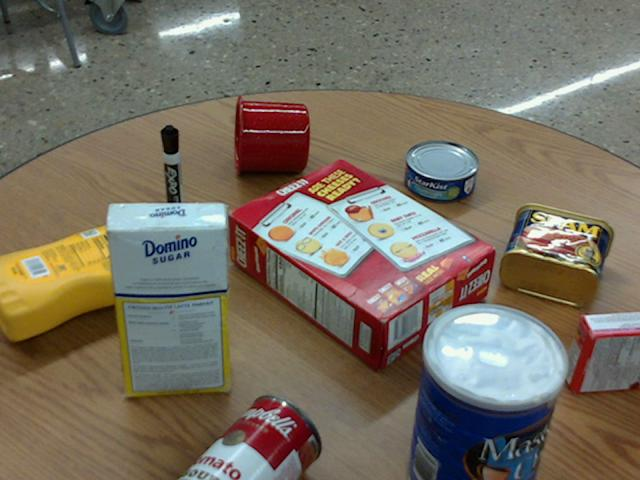cracker_box: (227, 159, 493, 365)
gelatin_box: (565, 311, 639, 392)
large_marker: (161, 125, 183, 227)
master_chef_can: (407, 303, 566, 479)
mug: (234, 95, 309, 175)
mustard_bottle: (0, 224, 185, 339)
potted_meat_can: (500, 202, 613, 306)
sugar_box: (104, 201, 226, 395)
tomato_soup_can: (178, 394, 321, 479)
tuna_fish_can: (405, 140, 478, 201)
